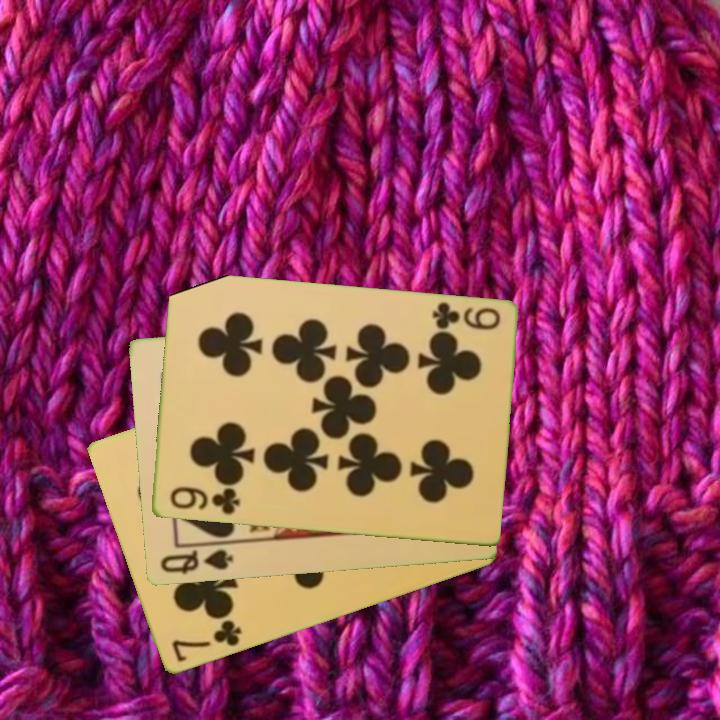7c: (167, 616, 244, 666)
9c: (428, 298, 503, 334), (166, 483, 242, 518)
Qs: (157, 546, 236, 577)
